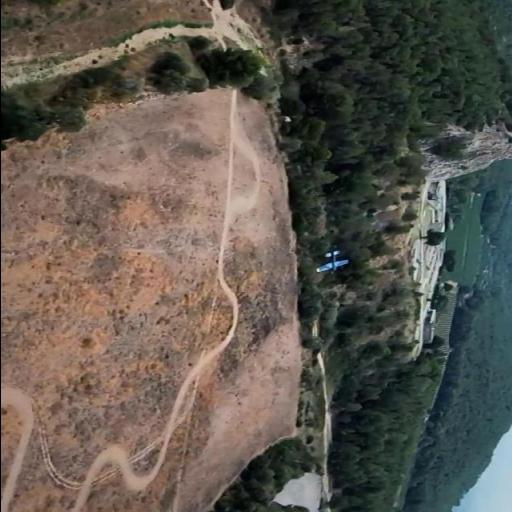uav: (314, 250, 348, 272)
